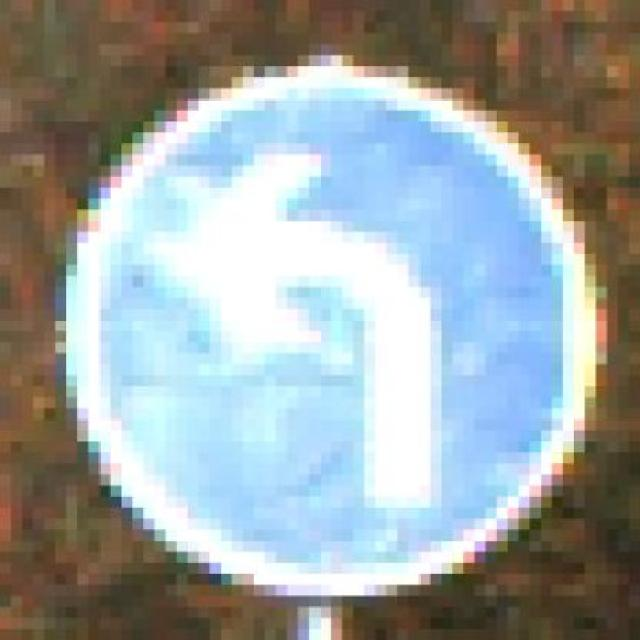Turn left ahead: (33, 55, 607, 596)
